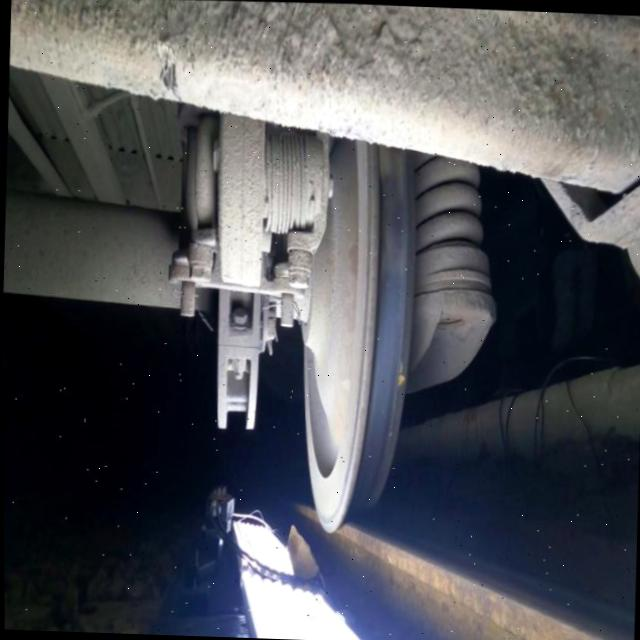Cracks-Scratches: (394, 355, 402, 389)
Shelling: (377, 145, 404, 271)
Wheel: (301, 138, 414, 529)
